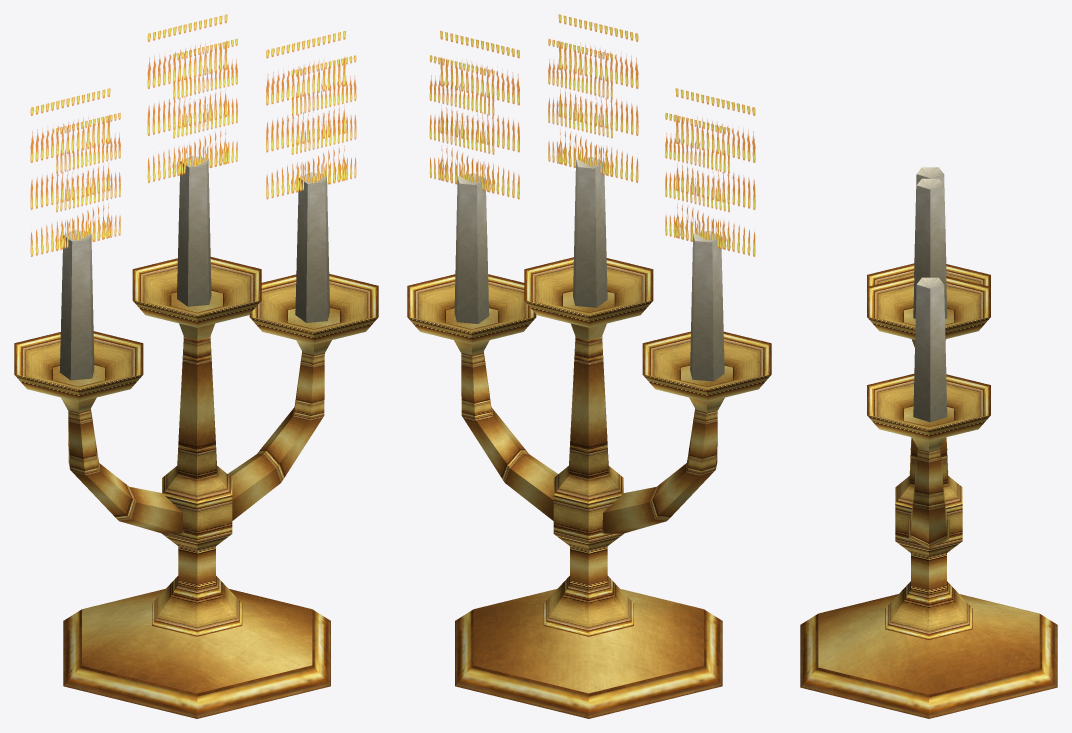
The model's file is mm9_deco_candelabra.glb.
3 renders of one model, left to right at view 1: azimuth 30°, elevation 25°; view 2: azimuth 150°, elevation 25°; view 3: azimuth 270°, elevation 25°, orthographic. The views are drawn at different scales.
Visible parts, largest first — view 1: Candelabra; view 2: Candelabra; view 3: Candelabra.
Part boxes in pixels (x1,y1,x2,y2): Candelabra: (14, 14, 378, 718); Candelabra: (407, 14, 771, 718); Candelabra: (800, 167, 1057, 718).
Bounding box in the file's own units: 0.7092 × 1.18 × 0.4518.
Materials: 2 (2 with a texture image).
